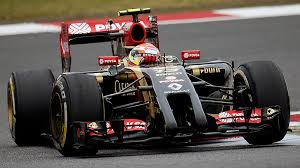FormulaOneCar: (4, 7, 289, 157)
